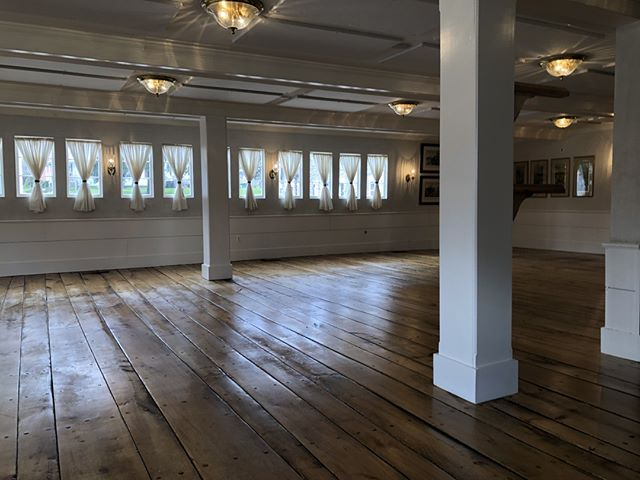collumn: (426, 1, 526, 405), (600, 9, 640, 367), (189, 104, 244, 284)
window: (16, 135, 59, 199), (64, 136, 107, 200), (114, 137, 157, 201), (155, 137, 198, 201), (231, 142, 268, 201), (270, 143, 307, 202), (334, 147, 364, 203), (364, 150, 394, 206), (309, 148, 335, 206)
